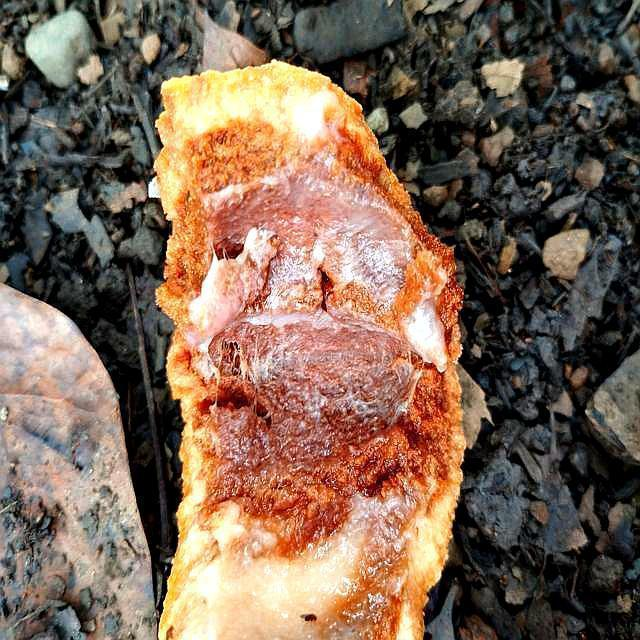Biodegradable: (155, 71, 465, 640)
